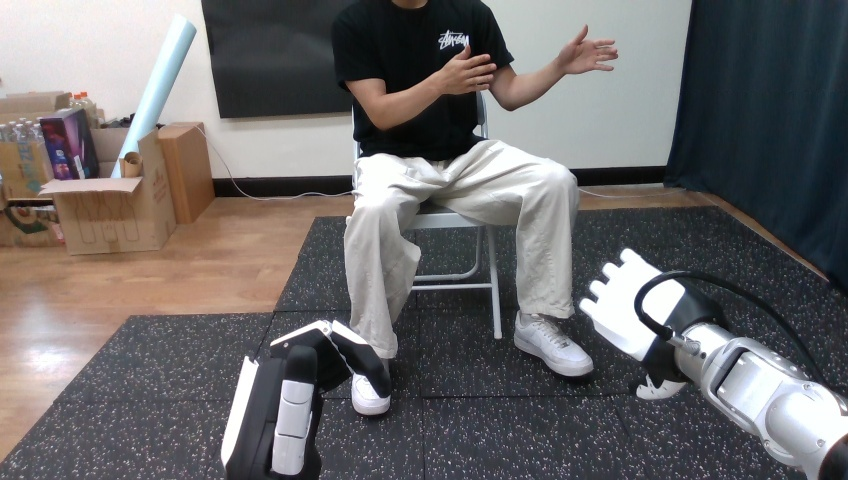left robot hand: (580, 248, 847, 478), (432, 45, 496, 94), (556, 25, 617, 74)
